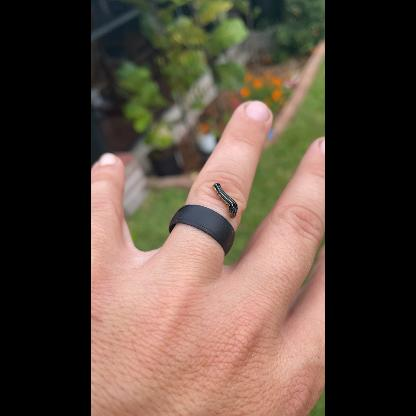Fall Armyworm Larvae: (209, 182, 240, 220)
